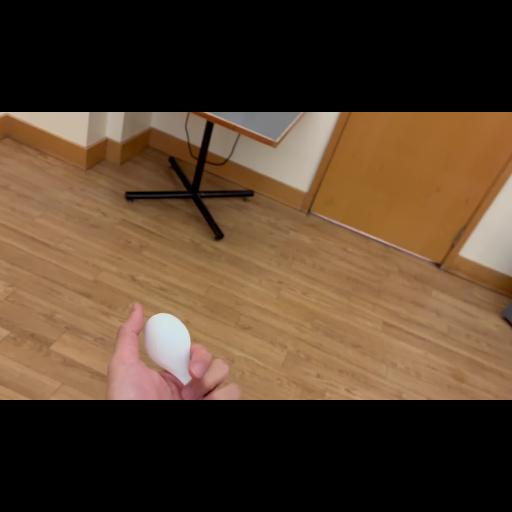utensil: (133, 302, 219, 394)
